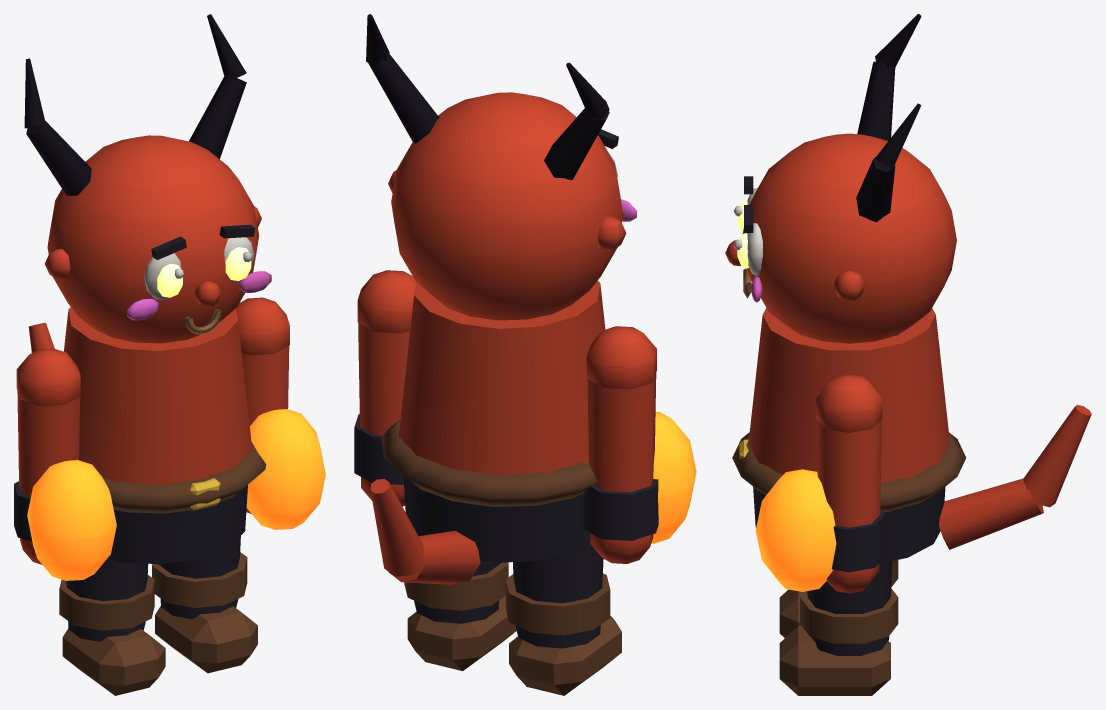
The model's file is hero_imp.glb.
3 renders of one model, left to right at view 1: azimuth 30°, elevation 25°; view 2: azimuth 150°, elevation 25°; view 3: azimuth 270°, elevation 25°, orthographic. The views are drawn at different scales.
Visible parts, largest first — view 1: body_t0_palette, legl_t0_palette, legr_t0_palette, arml_t0_palette, arml_t0_fire, armr_t0_fire, armr_t0_palette, body_t0_glow_gold; view 2: body_t0_palette, arml_t0_palette, legl_t0_palette, armr_t0_palette, legr_t0_palette, arml_t0_fire; view 3: body_t0_palette, armr_t0_palette, legr_t0_palette, armr_t0_fire, legl_t0_palette.
Boxes of the visible parts, x1,y1,x2,y2 form: body_t0_palette: (24, 14, 271, 564); legl_t0_palette: (59, 558, 165, 695); legr_t0_palette: (152, 536, 257, 673); arml_t0_palette: (14, 348, 80, 564); arml_t0_fire: (27, 460, 116, 580); armr_t0_fire: (246, 409, 325, 529); armr_t0_palette: (236, 297, 289, 513); body_t0_glow_gold: (157, 247, 251, 297); body_t0_palette: (366, 14, 636, 584); arml_t0_palette: (583, 326, 658, 563); legl_t0_palette: (505, 530, 621, 695); armr_t0_palette: (354, 270, 416, 506); legr_t0_palette: (404, 560, 516, 670); arml_t0_fire: (651, 412, 696, 543); body_t0_palette: (725, 14, 1091, 563); armr_t0_palette: (816, 374, 885, 593); legr_t0_palette: (779, 561, 898, 695); armr_t0_fire: (755, 469, 836, 591); legl_t0_palette: (779, 560, 898, 637).
Bounding box in the file's own units: 0.288 × 0.5711 × 0.3132.
